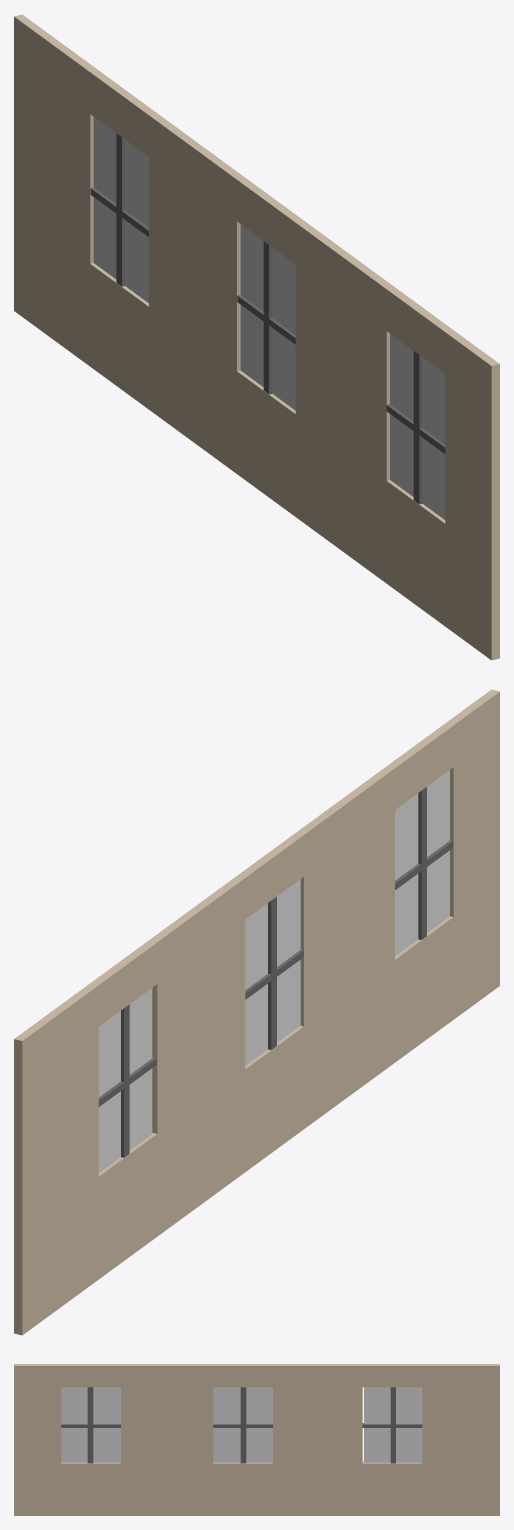
The model's file is WindowWalls.fbx.
The picture shows the model from 3 angles, top to bottom: view 1: azimuth 30°, elevation 25°; view 2: azimuth 150°, elevation 25°; view 3: azimuth 270°, elevation 25°; orthographic projection. The views are drawn at different scales.
Parts seen in each view (by area): view 1: Walls, WindowGlass, Frames; view 2: Walls, WindowGlass, Frames; view 3: Walls, WindowGlass, Frames.
Part boxes in pixels (x1,y1,x2,y2): Walls: (14, 14, 499, 660); WindowGlass: (93, 117, 445, 519); Frames: (90, 133, 445, 504); Walls: (14, 689, 499, 1335); WindowGlass: (98, 770, 449, 1172); Frames: (98, 787, 453, 1157); Walls: (14, 1364, 499, 1515); WindowGlass: (61, 1387, 422, 1462); Frames: (61, 1387, 422, 1463).
Size of the model in its own units: 12.54 by 422 by 1240.
